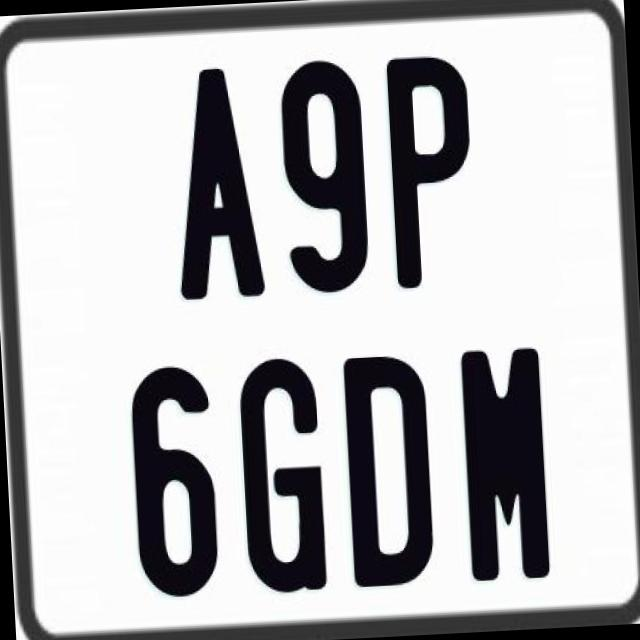6: (129, 366, 228, 606)
9: (278, 55, 378, 298)
A: (168, 63, 272, 297)
D: (342, 352, 434, 586)
G: (235, 352, 325, 594)
M: (457, 342, 547, 580)
P: (383, 54, 478, 290)
